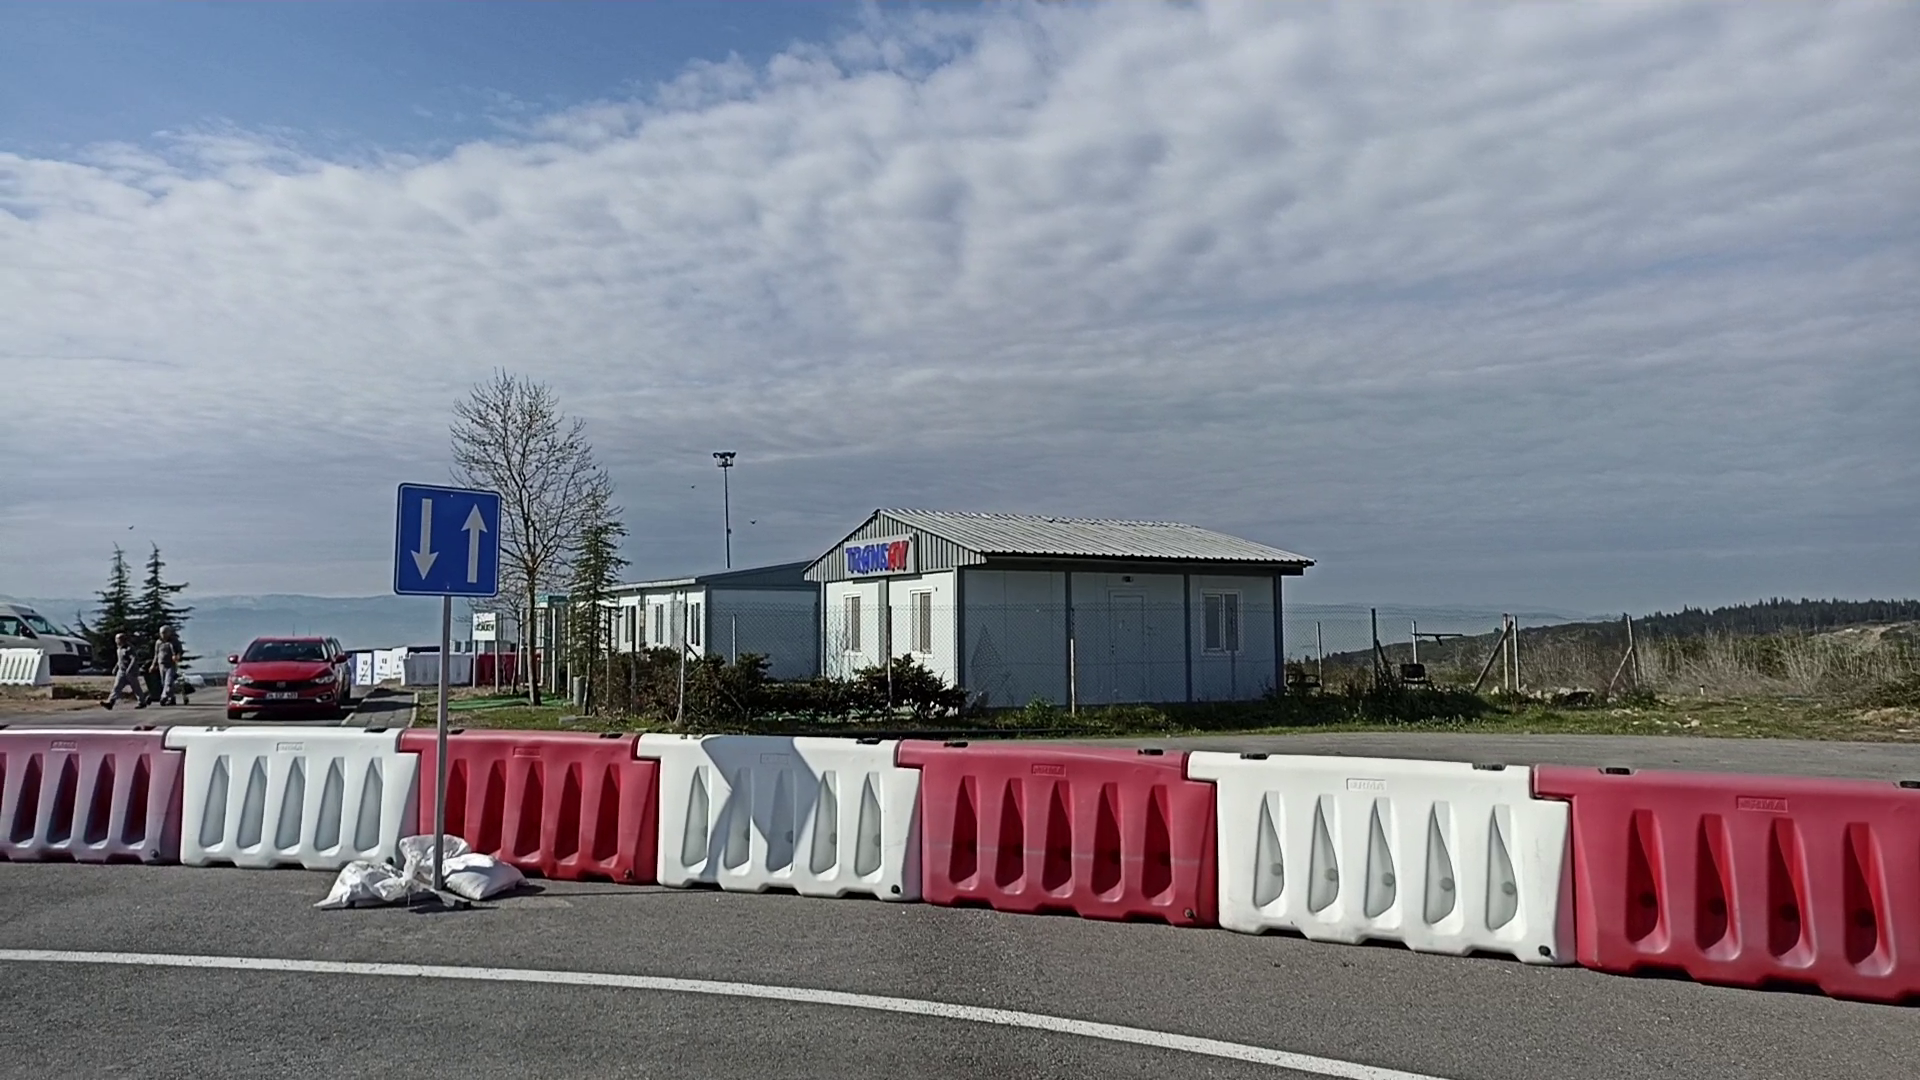oneway: (393, 483, 502, 600)
